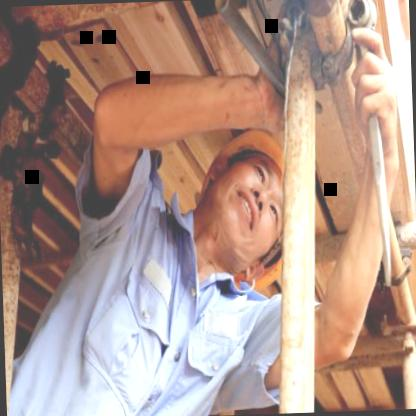helmet: (176, 99, 300, 288)
